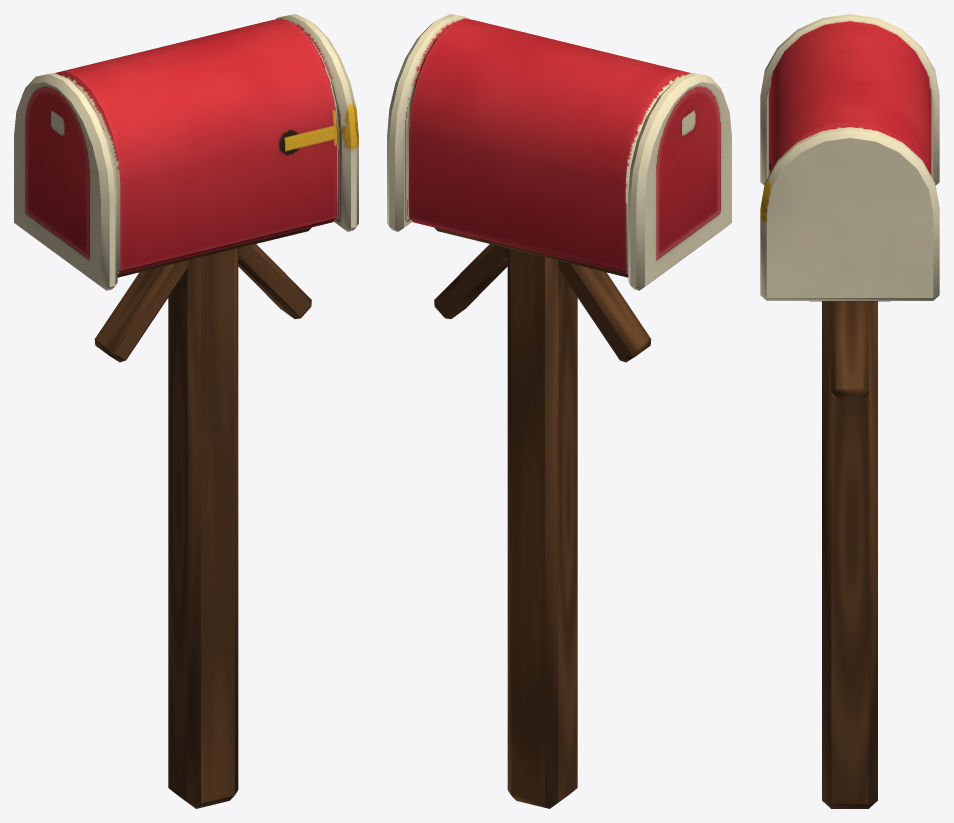
File: mailbox.glb
3 views of the same model, side by side, from view 1: azimuth 30°, elevation 25°; view 2: azimuth 150°, elevation 25°; view 3: azimuth 270°, elevation 25° (orthographic). The views are drawn at different scales.
Parts seen in each view (by area): view 1: mailbox; view 2: mailbox; view 3: mailbox.
Part boxes in pixels (bbox=[...]): mailbox: bbox=[14, 14, 358, 808]; mailbox: bbox=[387, 14, 731, 808]; mailbox: bbox=[760, 14, 939, 808].
Bounding box in the file's own units: 0.46 × 1.28 × 0.288.
1 material, 1 textured.
